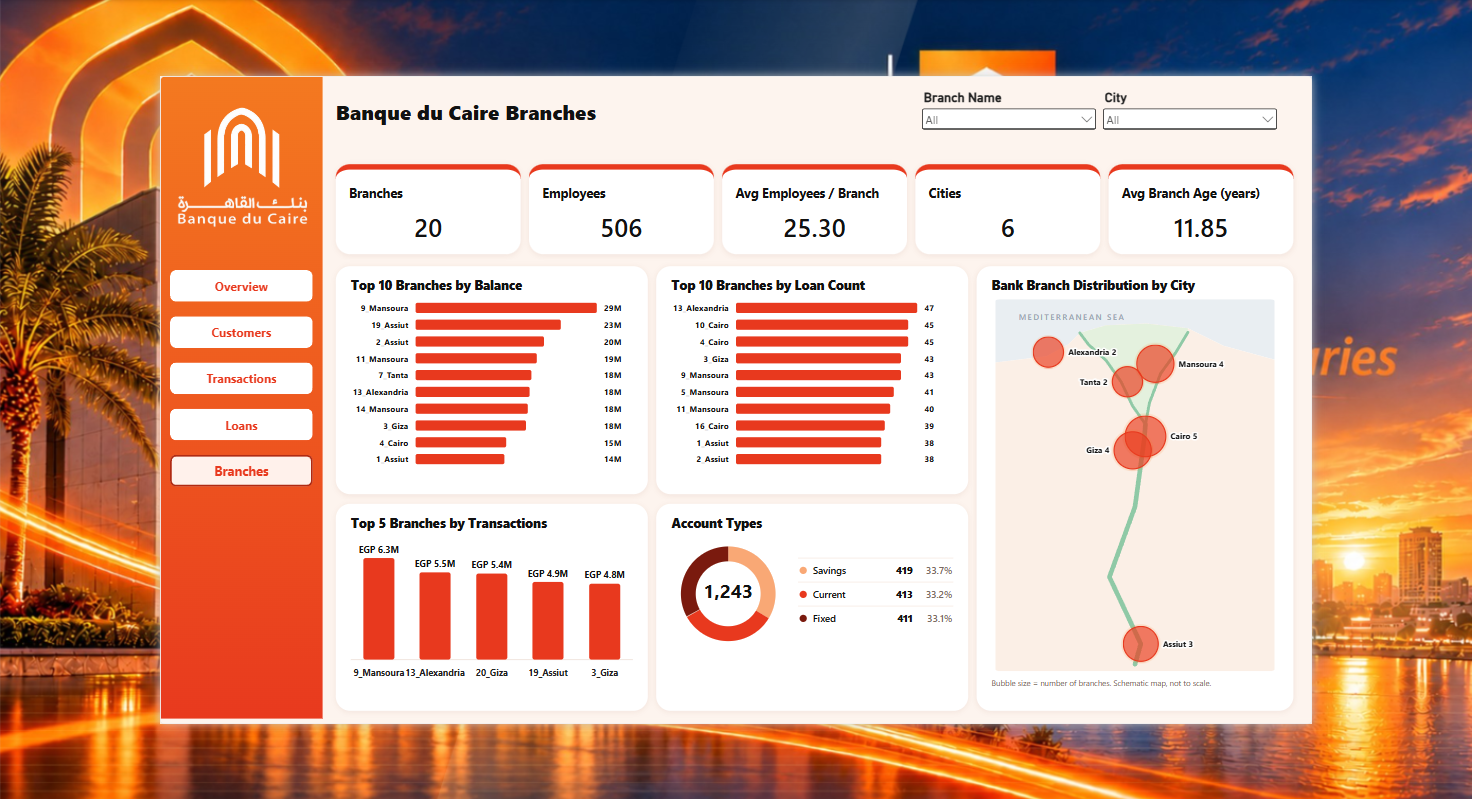

The dashboard page shown, as its layout file describes it:
{"tool":"powerbi","page":{"name":"Branches","canvas":[1920,1080],"ordinal":5},"visuals":[{"type":"htmlContent443BE3AD55E043BF878BED274D3A6855","fields":{"content":["Html.HTML Banque Branches"]},"box":[0,0,1920,1080],"z":0},{"type":"image","box":[38.4,0,195,240.5],"z":1000},{"type":"image","box":[0,162.5,255,131.2],"z":2000},{"type":"slicer","fields":{"Values":["Branches Dim.City"]},"box":[1566.7,24.1,300,96.3],"z":3000},{"type":"pageNavigator","box":[16.7,323.3,238.9,361.1],"z":4000},{"type":"slicer","fields":{"Values":["Branches Dim.Branch_Name_City"]},"box":[1265.8,24.2,300,96.3],"z":5000}]}

Visuals, with their boxes on the page's 1920x1080 design canvas (x1, y1, x2, y2). These are canvas units, not pixel positions in the 1472x799 screenshot, which may show the page scaled, cropped or inside an application window:
htmlContent443BE3AD55E043BF878BED274D3A6855 - Html.HTML Banque Branches: 0:0:1920:1080
image: 38:0:233:240
image: 0:162:255:294
slicer - Branches Dim.City: 1567:24:1867:120
pageNavigator: 17:323:256:684
slicer - Branches Dim.Branch_Name_City: 1266:24:1566:120
